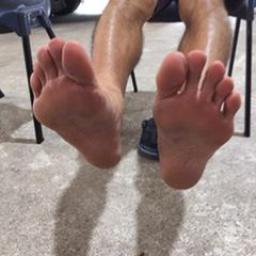Plantar View -Both Feet-: (24, 24, 248, 200)
